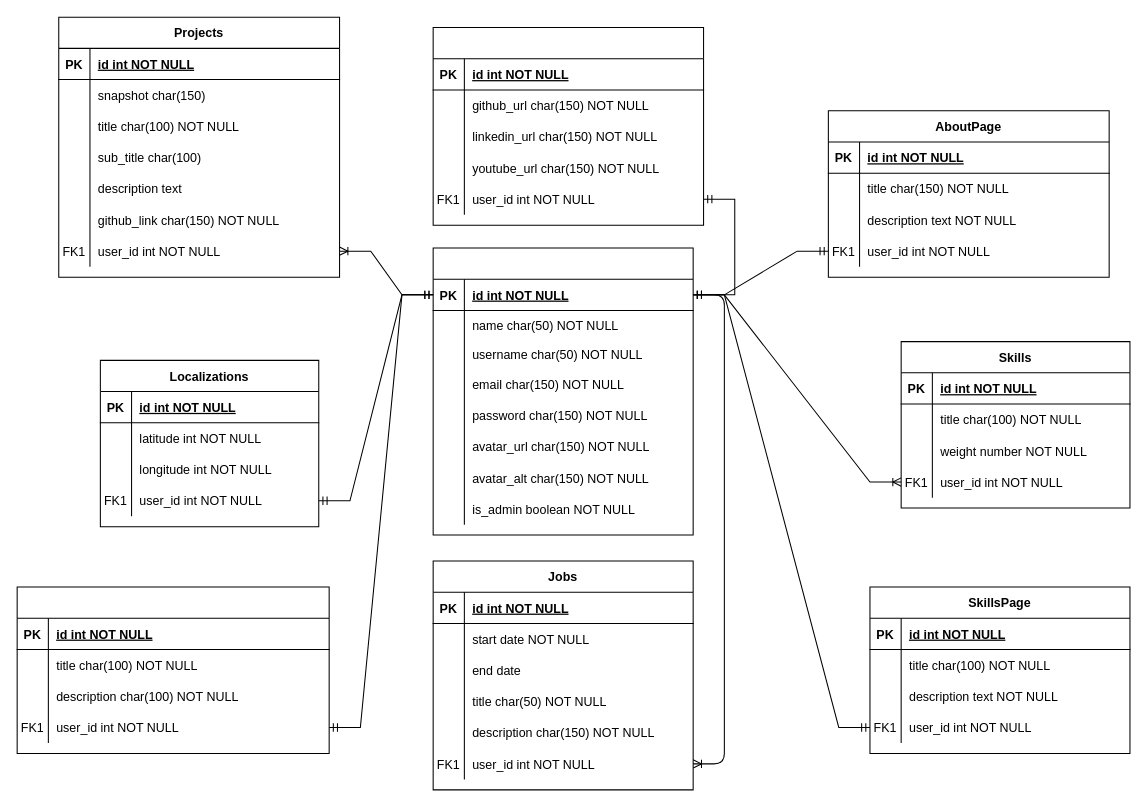
The diagram is 1147 pixels wide and 807 high, and some of its shapes have lost their labels. The shapes that lost their labels are listed below. From the top down, each one's box as (x1, y1, x2, y2) in pixels, then its label:
(432, 27, 704, 225): Social
(432, 247, 693, 535): Users
(16, 586, 329, 753): ContactPage
